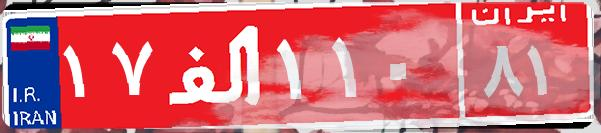0: (385, 28, 445, 110)
1: (273, 28, 330, 110), (330, 28, 385, 110), (57, 26, 110, 107), (525, 38, 570, 115)
7: (110, 28, 158, 105)
8: (475, 38, 525, 113)
الف: (158, 15, 273, 115)
